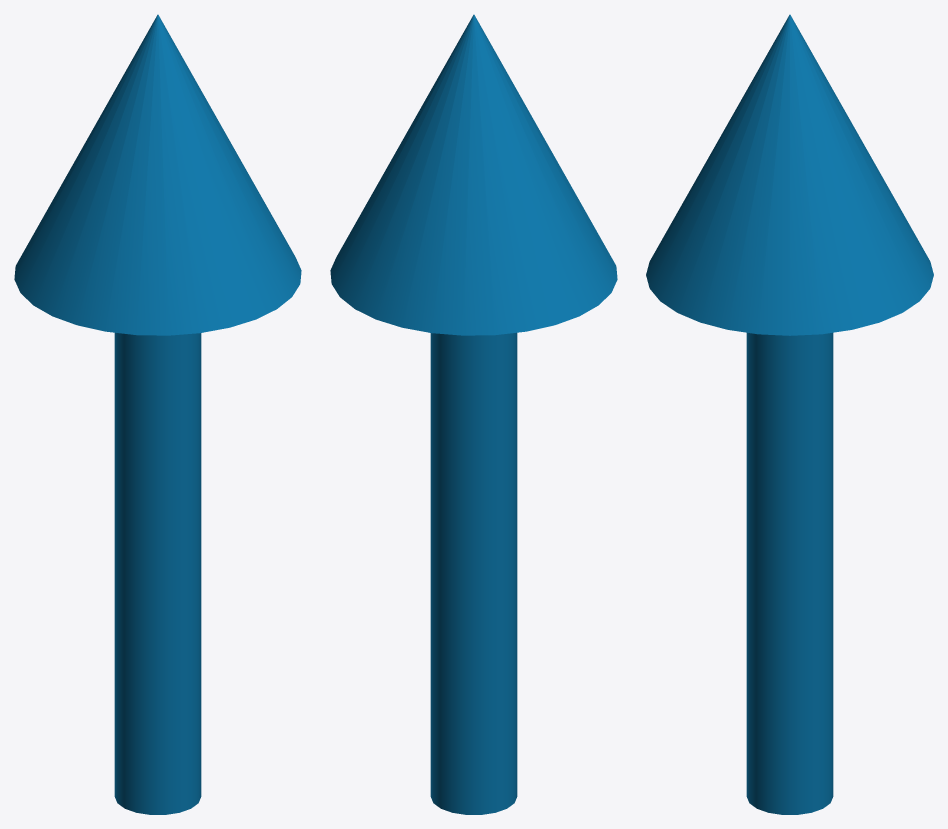
File: Translate_Z.fbx
The picture shows the model from 3 angles, left to right: view 1: azimuth 30°, elevation 25°; view 2: azimuth 150°, elevation 25°; view 3: azimuth 270°, elevation 25°; orthographic projection.
Visible parts, largest first — view 1: Z_Axis; view 2: Z_Axis; view 3: Z_Axis.
Boxes of the visible parts, left/top/right/bottom form: Z_Axis: left=14, top=14, right=301, bottom=814; Z_Axis: left=330, top=14, right=617, bottom=814; Z_Axis: left=646, top=14, right=933, bottom=814.
Size of the model in its own units: 20 by 60 by 20.
